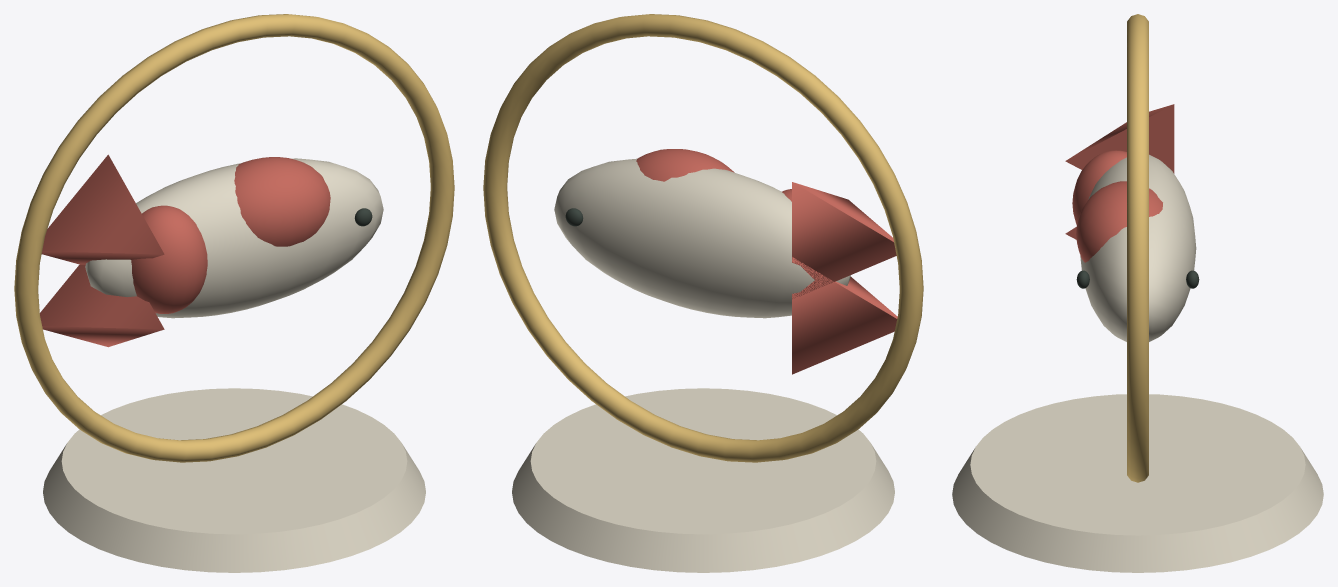
The model's file is koi.glb.
The picture shows the model from 3 angles, left to right: view 1: azimuth 30°, elevation 25°; view 2: azimuth 150°, elevation 25°; view 3: azimuth 270°, elevation 25°; orthographic projection. The views are drawn at different scales.
Size of the model in its own units: 1.34 by 1.38 by 1.02.
